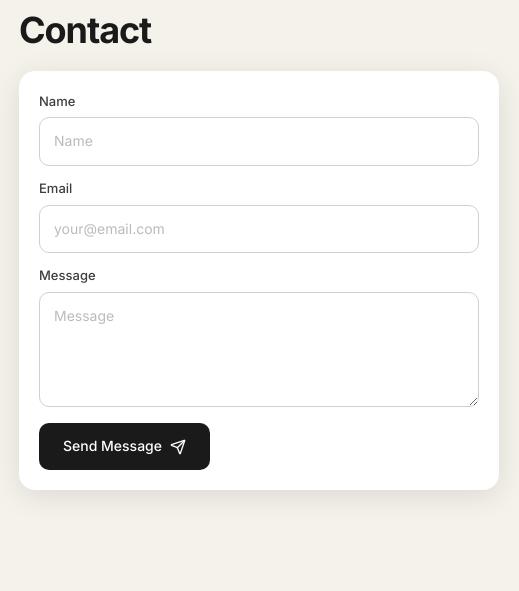
Test: ContactPage › validation › shows error for invalid email
Type "invalid-email" into the field labelled "Email".
click(259, 229); type("invalid-email")  # box [39,205,479,253]
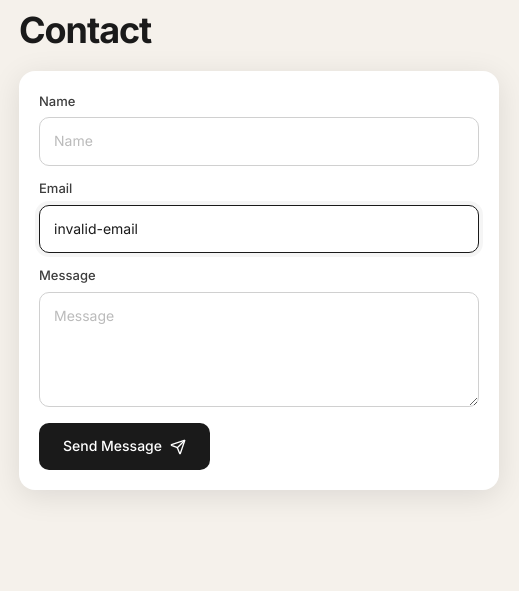
Click the button "Send Message".
click(124, 446)  # box [39,423,210,470]
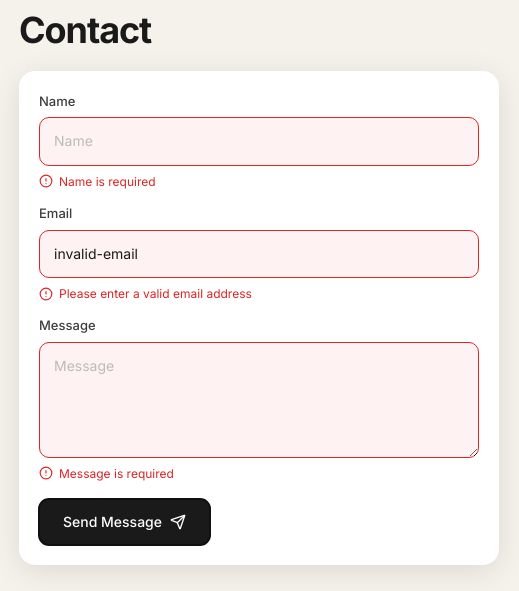
expect the text "Please enter a valid email address" is shown: met, box [39,286,252,301]
